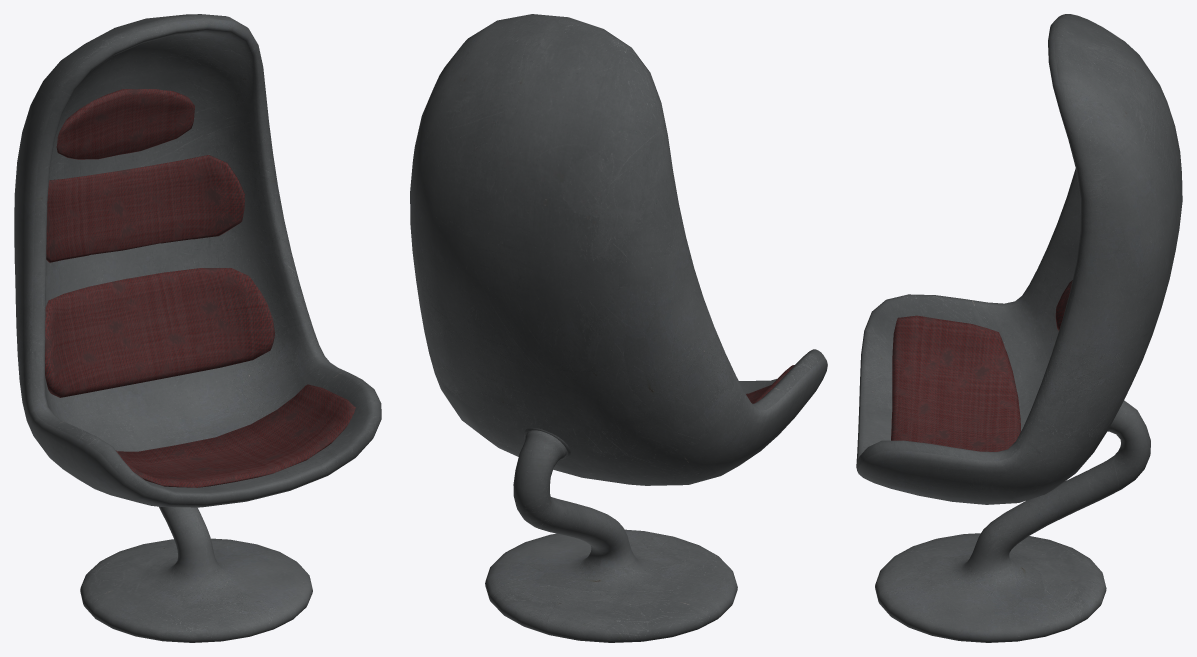
File: Chair.fbx
3 renders of one model, left to right at view 1: azimuth 30°, elevation 25°; view 2: azimuth 150°, elevation 25°; view 3: azimuth 270°, elevation 25°, orthographic. The views are drawn at different scales.
Visible parts, largest first — view 1: Base, Pillow2, Leg, Pillow3, Pillow, Pillow4; view 2: Base, Leg; view 3: Base, Leg, Pillow.
Boxes of the visible parts, box(x1,y1,x2,y2) form: Base: box(14, 14, 381, 507); Pillow2: box(45, 268, 274, 397); Leg: box(80, 506, 312, 642); Pillow3: box(46, 155, 245, 262); Pillow: box(116, 384, 355, 487); Pillow4: box(56, 89, 194, 159); Base: box(410, 14, 827, 485); Leg: box(485, 430, 737, 642); Base: box(856, 14, 1182, 504); Leg: box(875, 400, 1150, 642); Pillow: box(891, 315, 1020, 451).
Bounding box in the file's own units: 5104 × 9109 × 4781.
